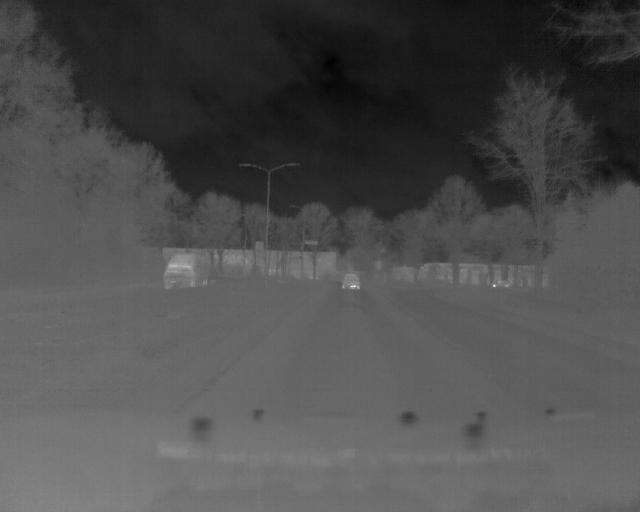car: (158, 250, 215, 290), (339, 272, 362, 289)
